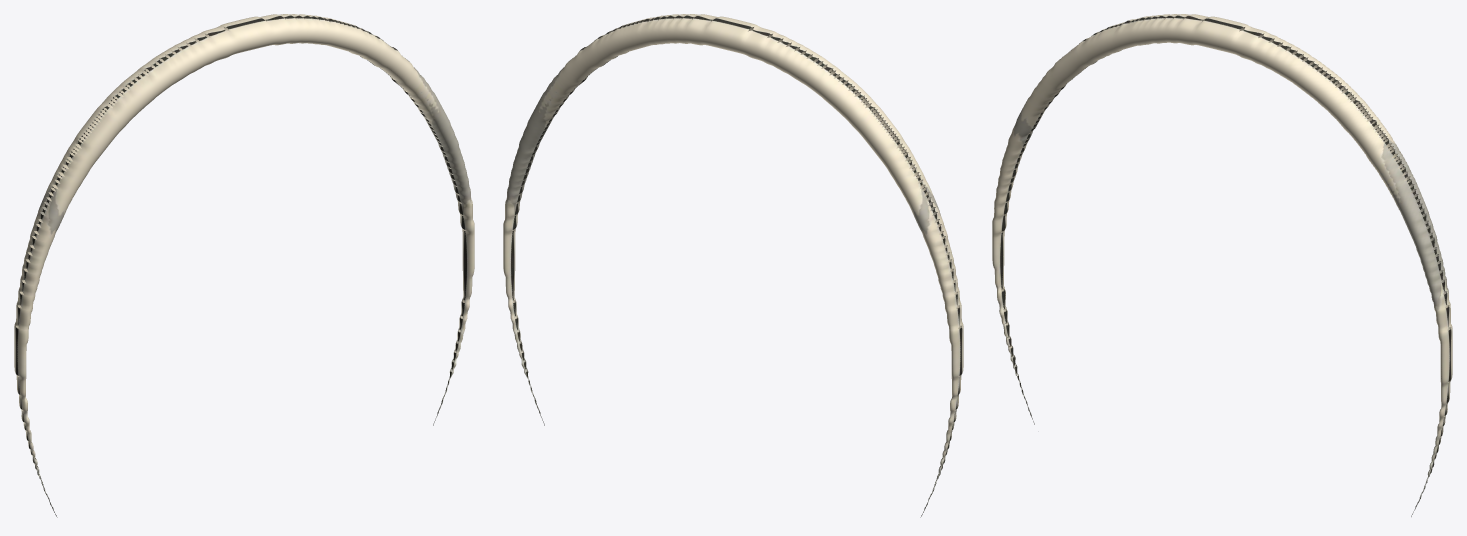
The model's file is outer_hoop.glb.
3 renders of one model, left to right at view 1: azimuth 30°, elevation 25°; view 2: azimuth 150°, elevation 25°; view 3: azimuth 330°, elevation 25°, orthographic.
Visible parts, largest first — view 1: outer_hoop; view 2: outer_hoop; view 3: outer_hoop.
Part boxes in pixels (x1,y1,x2,y2): outer_hoop: (14,14,474,517); outer_hoop: (503,14,963,517); outer_hoop: (992,14,1452,516).
Size of the model in its own units: 0.989 by 0.9401 by 0.0766.
Materials: 1 (1 with a texture image).
